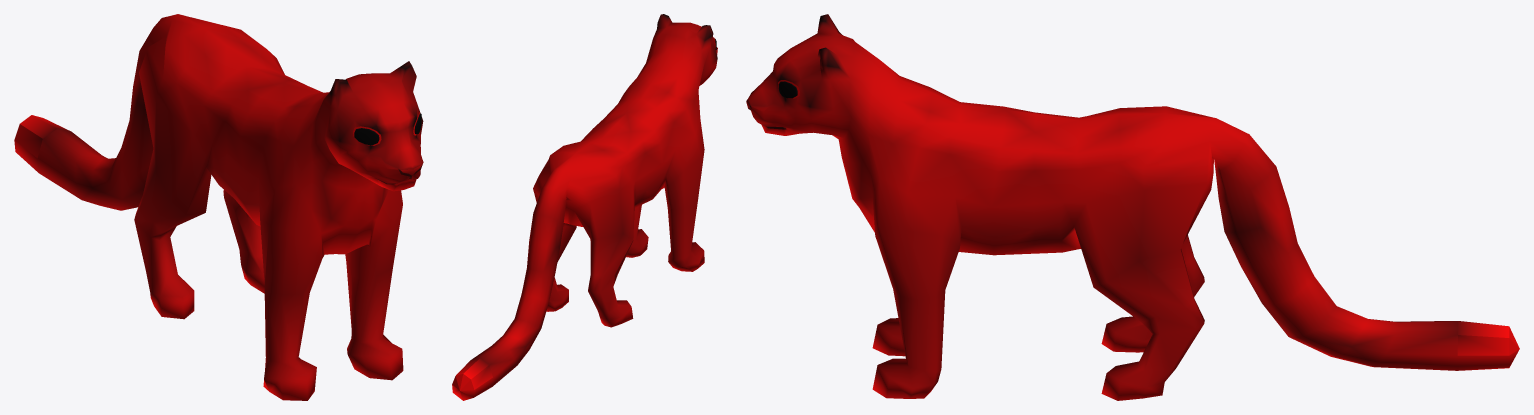
Rendered from Animals_SnowLeopard.fbx.
3 renders of one model, left to right at view 1: azimuth 30°, elevation 25°; view 2: azimuth 150°, elevation 25°; view 3: azimuth 270°, elevation 25°, orthographic. The views are drawn at different scales.
Visible parts, largest first — view 1: base; view 2: base; view 3: base.
Part boxes in pixels (box(x1,y1,x2,y2)): base: box(14, 14, 423, 400); base: box(452, 14, 717, 400); base: box(746, 14, 1519, 400).
Size of the model in its own units: 59.74 by 147 by 303.
